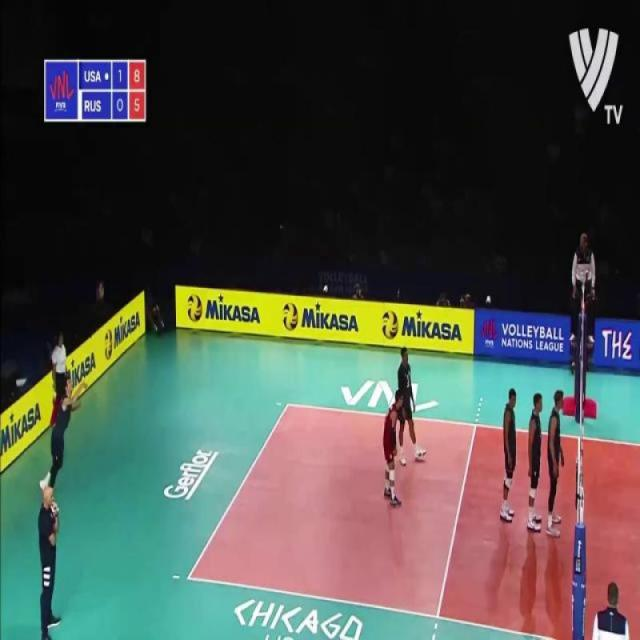volleyball: (186, 292, 204, 324), (282, 302, 300, 332), (382, 310, 399, 340), (103, 328, 114, 363), (95, 282, 106, 304)
